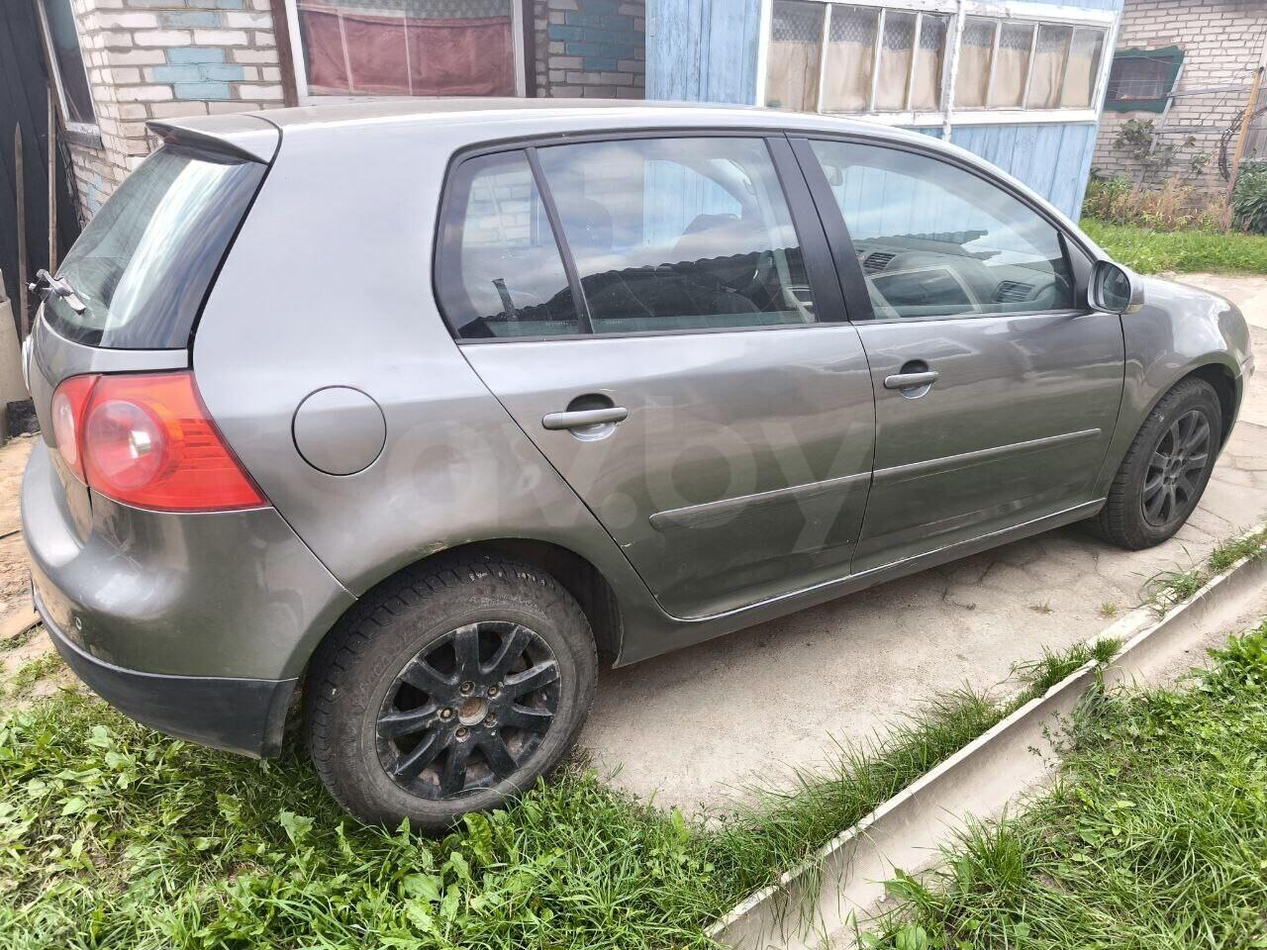Golf_2003-2009: (13, 98, 1252, 831)
